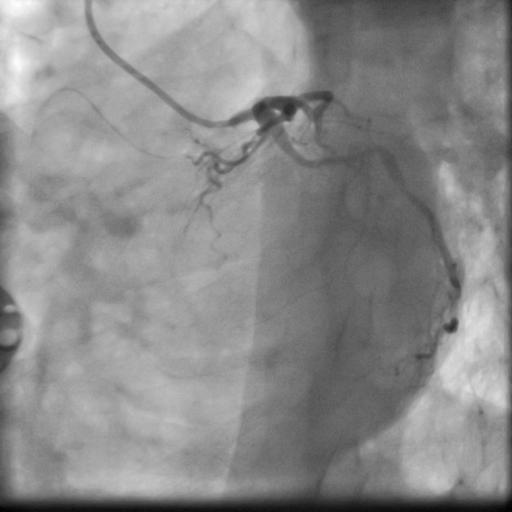Stenosis: (391, 179, 417, 202)
